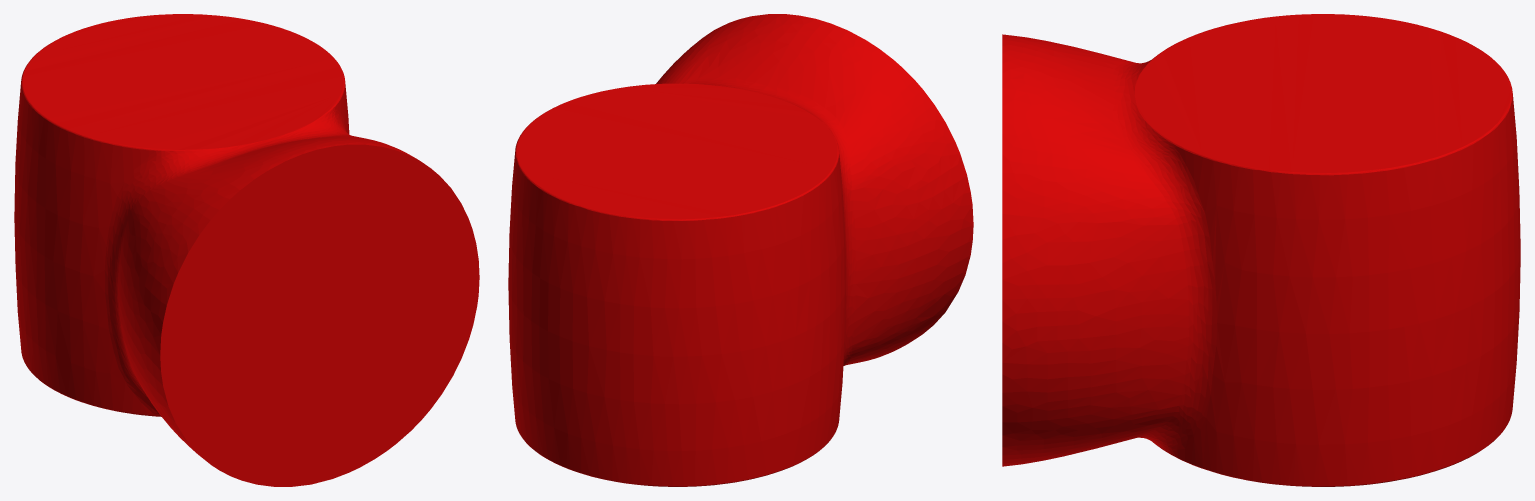
3 views of the same model, side by side, from view 1: azimuth 30°, elevation 25°; view 2: azimuth 150°, elevation 25°; view 3: azimuth 270°, elevation 25° (orthographic). The views are drawn at different scales.
Visible parts, largest first — view 1: Untitled; view 2: Untitled; view 3: Untitled.
Boxes of the visible parts, x1=… form: Untitled: x1=14, y1=14, x2=479, y2=486; Untitled: x1=508, y1=14, x2=973, y2=486; Untitled: x1=1002, y1=14, x2=1520, y2=486.
Size of the model in its own units: 0.1848 by 0.2216 by 0.1844.
